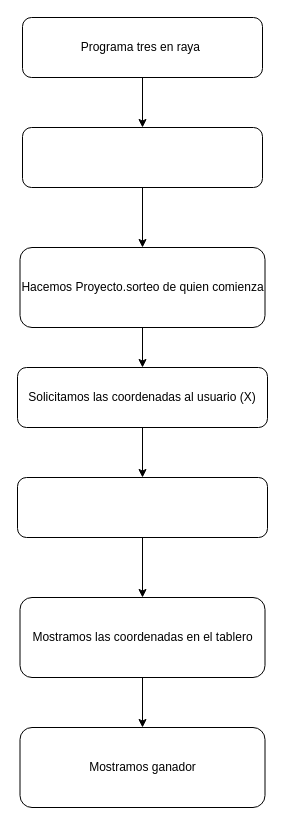
The diagram is 285 pixels wide and 825 high, and some of its shapes have lost their labels. Here are the shapes that lost their labels. From the top down, the centre of each, then its label:
At point (142, 157): "Mostramos el tablero".
At point (142, 507): "Creamos unas coordenadas de la maquina".
